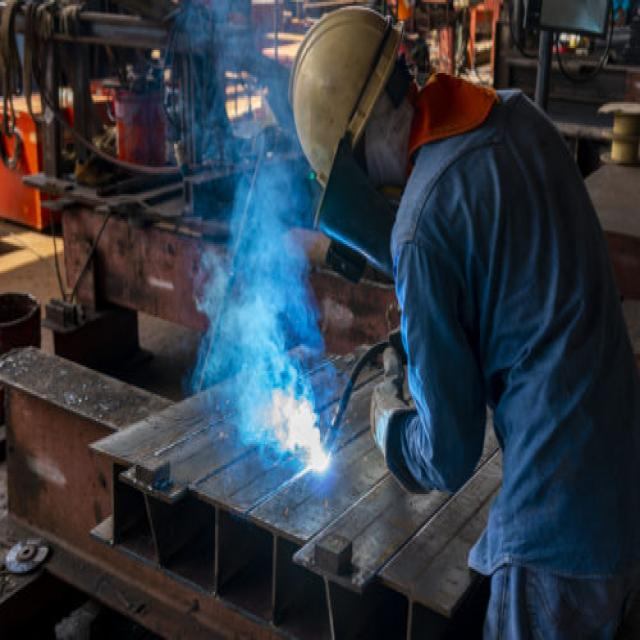welding: (307, 444, 334, 472)
